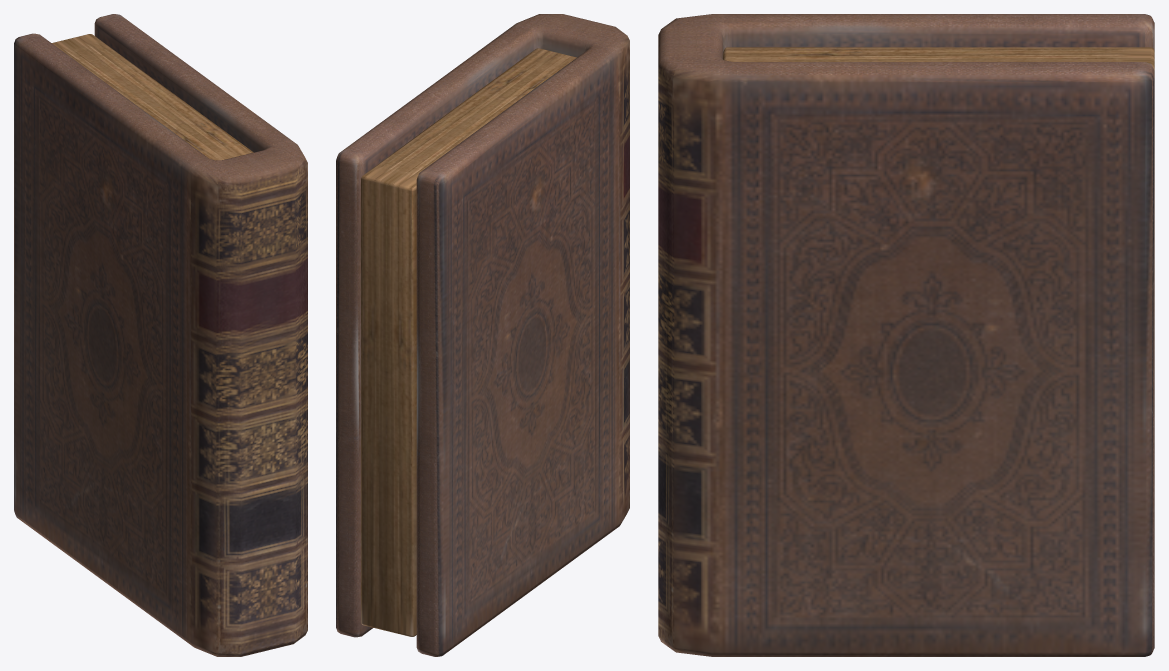
The model's file is Book2.fbx.
3 views of the same model, side by side, from view 1: azimuth 30°, elevation 25°; view 2: azimuth 150°, elevation 25°; view 3: azimuth 270°, elevation 25° (orthographic). The views are drawn at different scales.
Visible parts, largest first — view 1: Book; view 2: Book; view 3: Book.
Boxes of the visible parts, x1,y1,x2,y2 form: Book: (14, 14, 307, 656); Book: (336, 14, 629, 656); Book: (658, 14, 1154, 656).
Bounding box in the file's own units: 7 × 30 × 23.
Materials: 1 (1 with a texture image).
